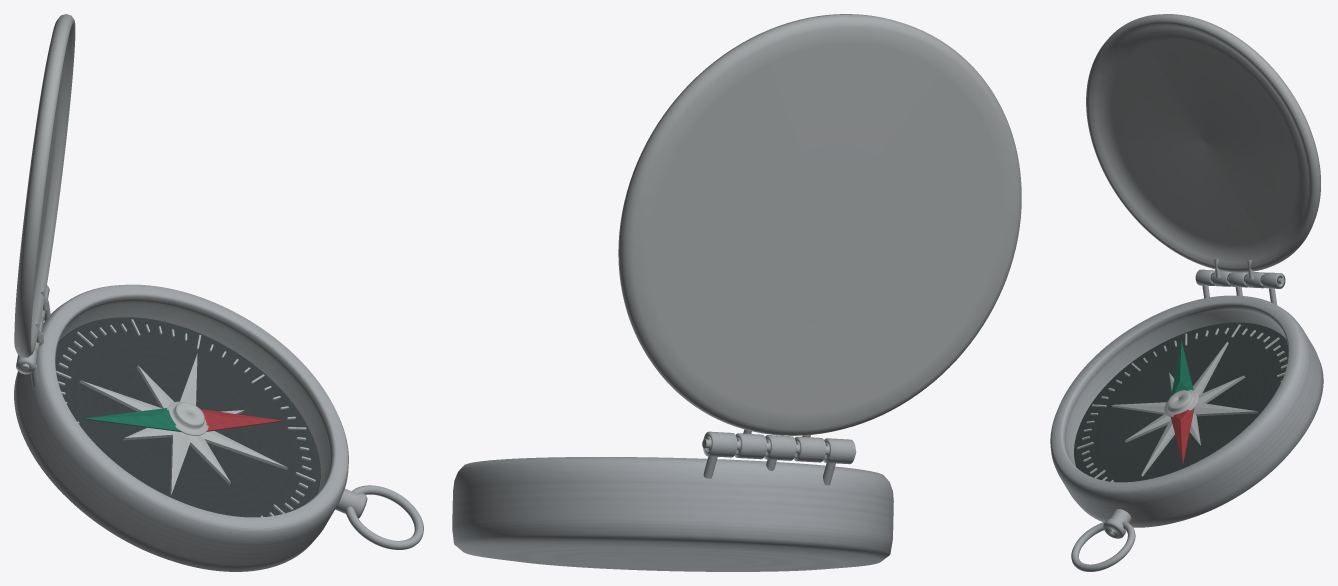
The model's file is custom.glb.
3 views of the same model, side by side, from view 1: azimuth 30°, elevation 25°; view 2: azimuth 150°, elevation 25°; view 3: azimuth 270°, elevation 25° (orthographic). The views are drawn at different scales.
Parts seen in each view (by area): view 1: C-Case, C-Dial, C-Lid, C-Rose, C-Bail, C-Needle-North, C-Pivot, C-Needle-South, C-Lug; view 2: C-Lid, C-Case, C-Hinge-Knuckle-4, C-Hinge-Knuckle-1, C-Hinge-Knuckle-0, C-Hinge-Knuckle-2, C-Hinge-Knuckle-3; view 3: C-Lid, C-Case, C-Dial, C-Rose, C-Bail, C-Needle-South, C-Pivot, C-Needle-North, C-Lug.
Part boxes in pixels (bbox=[...]): C-Case: bbox=[14, 284, 348, 571]; C-Dial: bbox=[55, 317, 320, 517]; C-Lid: bbox=[14, 14, 75, 357]; C-Rose: bbox=[79, 353, 287, 496]; C-Bail: bbox=[345, 485, 423, 549]; C-Needle-North: bbox=[84, 408, 180, 431]; C-Pivot: bbox=[167, 401, 208, 435]; C-Needle-South: bbox=[200, 409, 282, 431]; C-Lug: bbox=[335, 488, 367, 518]; C-Lid: bbox=[618, 14, 1021, 435]; C-Case: bbox=[452, 457, 893, 571]; C-Hinge-Knuckle-4: bbox=[703, 431, 737, 457]; C-Hinge-Knuckle-1: bbox=[793, 436, 826, 462]; C-Hinge-Knuckle-0: bbox=[823, 438, 855, 464]; C-Hinge-Knuckle-2: bbox=[764, 435, 796, 460]; C-Hinge-Knuckle-3: bbox=[734, 433, 766, 459]; C-Lid: bbox=[1086, 14, 1320, 272]; C-Case: bbox=[1050, 295, 1323, 527]; C-Dial: bbox=[1074, 322, 1288, 482]; C-Rose: bbox=[1111, 341, 1258, 476]; C-Bail: bbox=[1071, 521, 1135, 571]; C-Needle-South: bbox=[1170, 408, 1194, 463]; C-Pivot: bbox=[1164, 390, 1198, 417]; C-Needle-North: bbox=[1171, 341, 1193, 395]; C-Lug: bbox=[1103, 509, 1131, 538].
Size of the model in its own units: 2.55 by 3.2 by 1.81.
6 materials, 5 textured.
